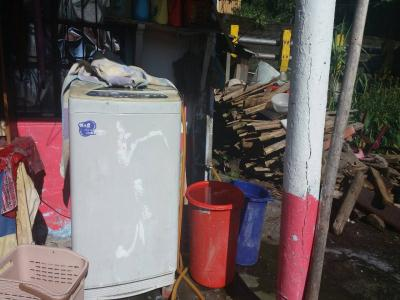bucket: (187, 178, 246, 293), (226, 178, 274, 269)
washing_machine: (67, 82, 183, 300)
